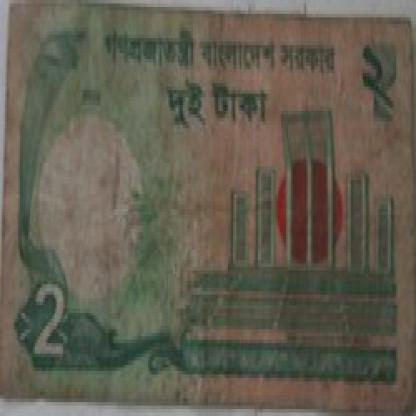two taka: (30, 271, 75, 368), (356, 52, 398, 146)
